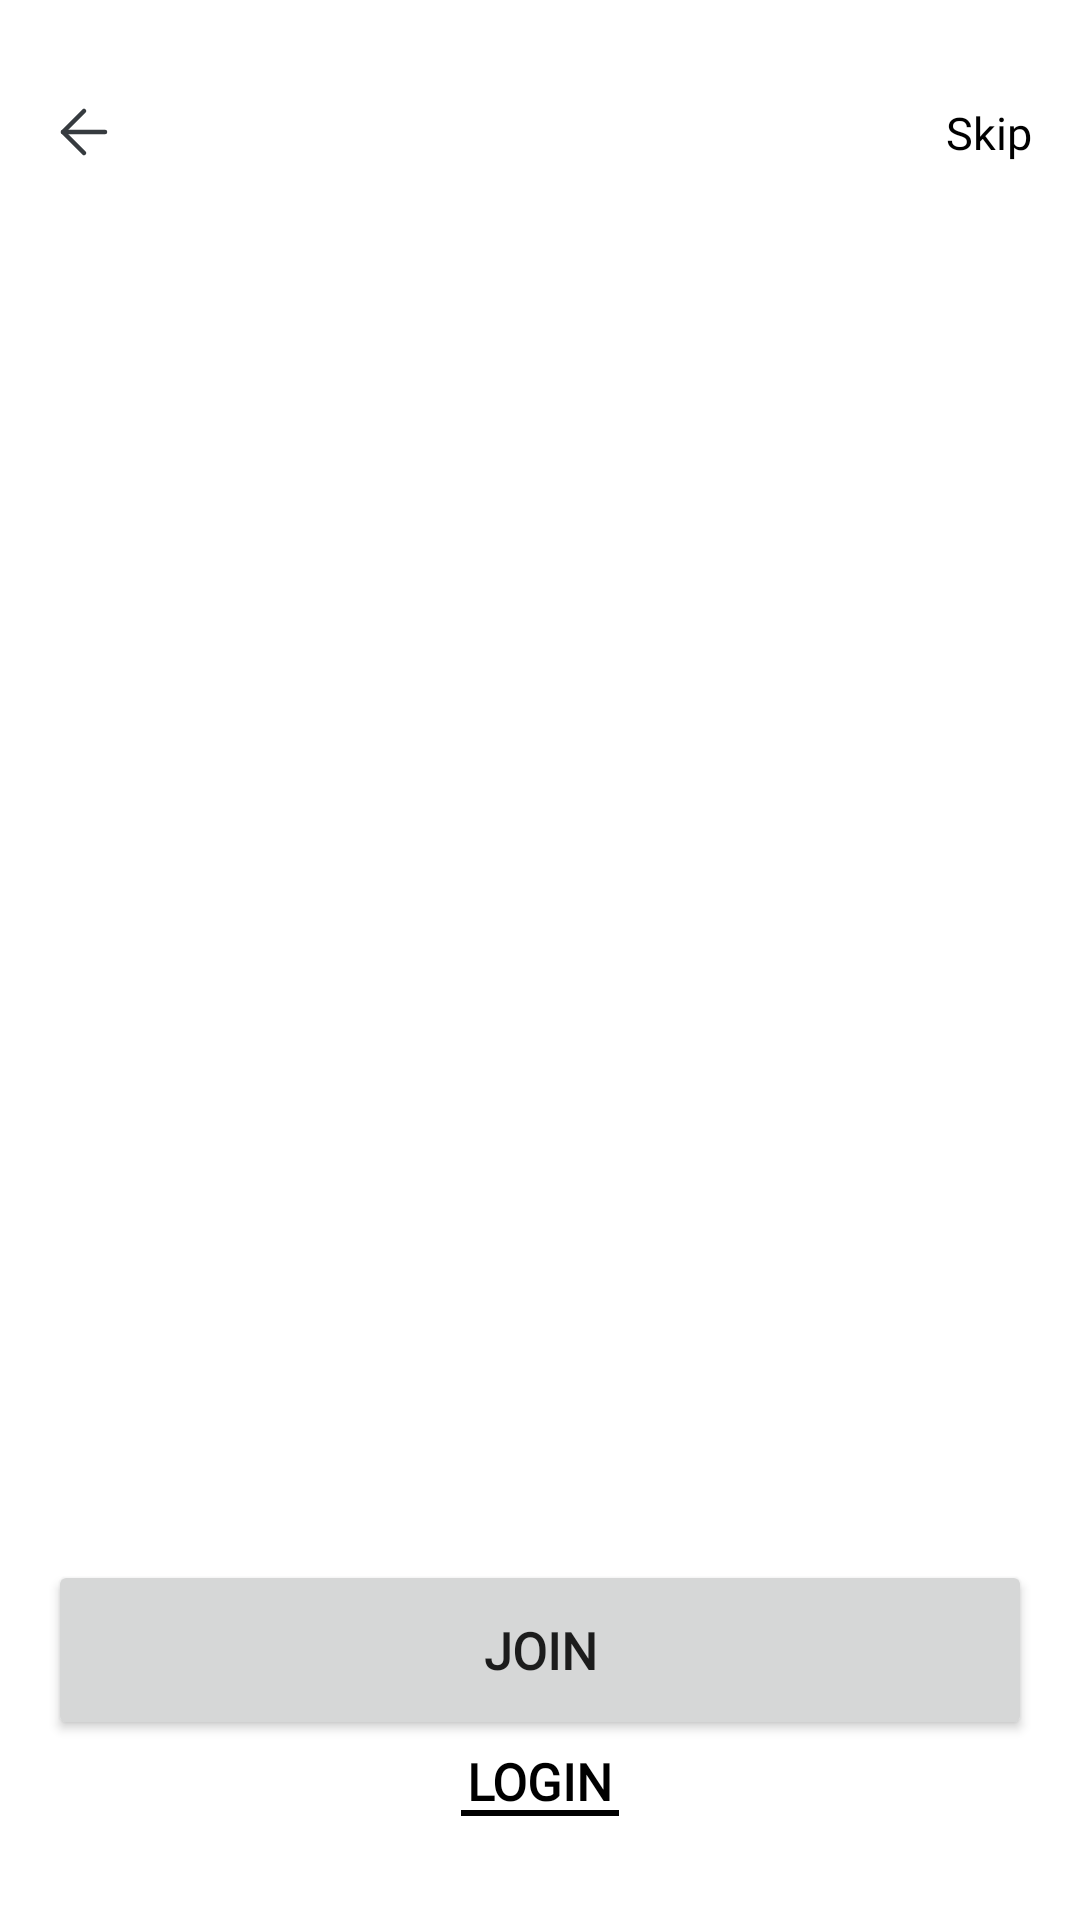

Screen size 1080w x 1920h. Icon name, then its box in pixels as {"x1": x1, "y1": y1, "x2": x2, "y2": y2}:
back arrow: {"x1": 60, "y1": 108, "x2": 107, "y2": 156}
